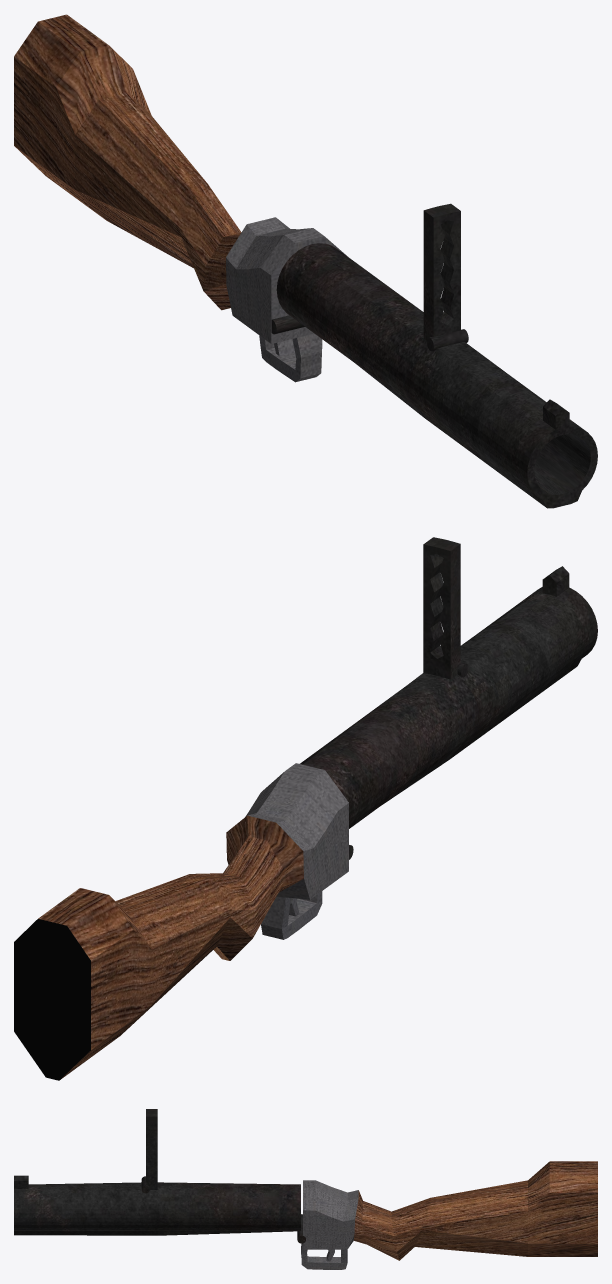
Rendered from GrenadeLauncher.fbx.
3 renders of one model, top to bottom at view 1: azimuth 30°, elevation 25°; view 2: azimuth 150°, elevation 25°; view 3: azimuth 270°, elevation 25°, orthographic. The views are drawn at different scales.
Visible parts, largest first — view 1: LauncherStock, Barrel; view 2: LauncherStock, Barrel; view 3: LauncherStock, Barrel.
Part boxes in pixels (left/top/right/bottom): LauncherStock: left=14, top=14, right=346, bottom=382; Barrel: left=271, top=203, right=597, bottom=508; LauncherStock: left=14, top=763, right=348, bottom=1080; Barrel: left=300, top=537, right=597, bottom=859; LauncherStock: left=301, top=1161, right=597, bottom=1269; Barrel: left=14, top=1109, right=305, bottom=1243.
Size of the model in its own units: 0.055 by 0.1823 by 0.6235.
Materials: 2 (2 with a texture image).
